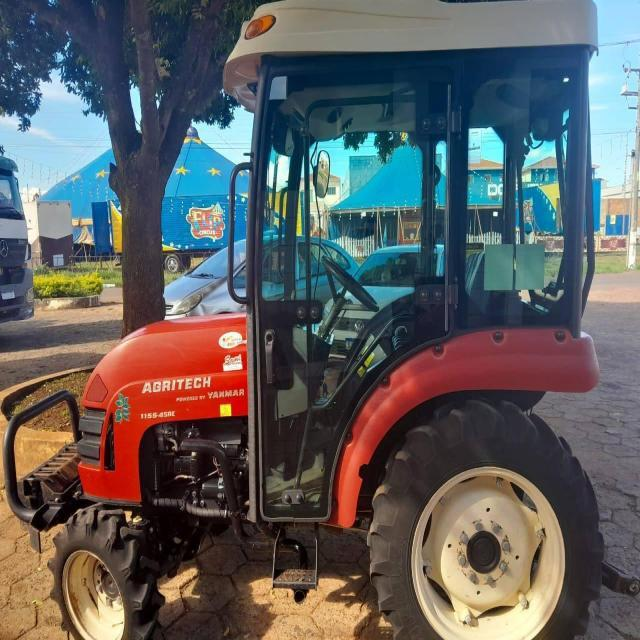Tratores - v5 YOLO V8L 2024-11-13: (3, 0, 604, 639)
